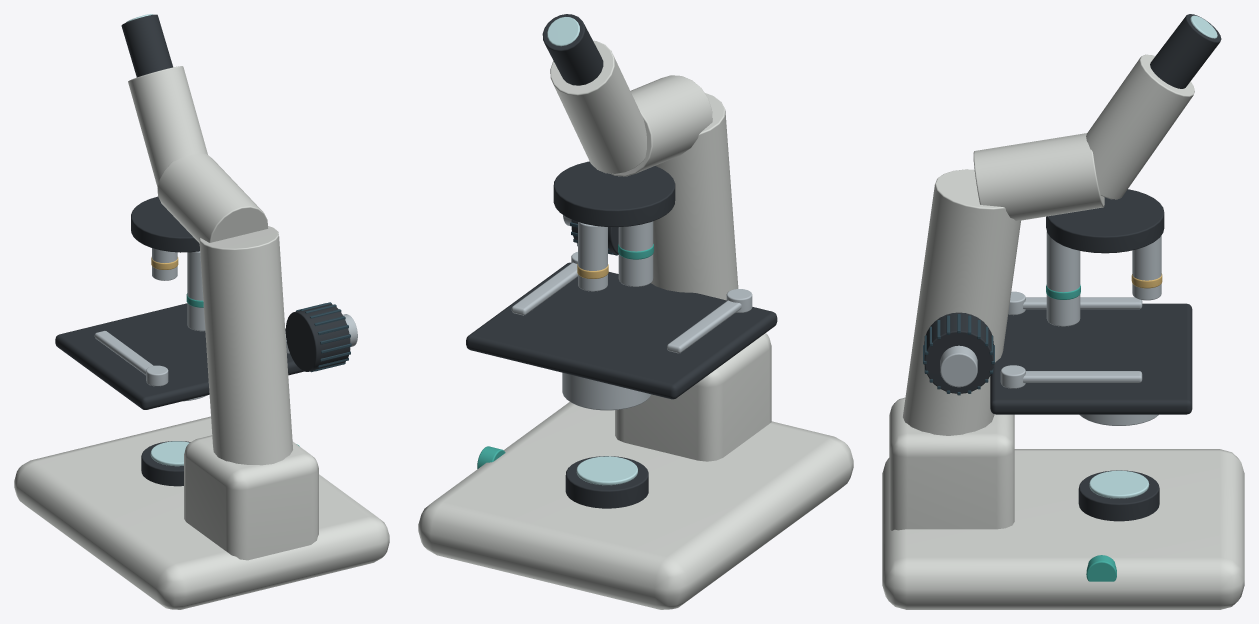
The model's file is BIO_Microscope.fbx.
3 views of the same model, side by side, from view 1: azimuth 30°, elevation 25°; view 2: azimuth 150°, elevation 25°; view 3: azimuth 270°, elevation 25° (orthographic). The views are drawn at different scales.
Visible parts, largest first — view 1: Base, Arm, ArmFoot, Stage, HeadSupport, Head, CoarseFocusKnob, Nosepiece, Eyepiece, Objective_40x, Illuminator, StageClip_L (+2 smaller); view 2: Base, Stage, Arm, ArmFoot, Head, Nosepiece, HeadSupport, Illuminator, Eyepiece, Condenser, Objective_40x, Objective_10x (+4 smaller); view 3: Base, Stage, Arm, ArmFoot, HeadSupport, Head, Nosepiece, CoarseFocusKnob, Eyepiece, Objective_40x, Illuminator, Objective_10x (+7 smaller).
Boxes of the visible parts, bbox=[...] form: Base: bbox=[14, 416, 389, 609]; Arm: bbox=[199, 226, 292, 465]; ArmFoot: bbox=[184, 435, 318, 560]; Stage: bbox=[55, 303, 303, 409]; HeadSupport: bbox=[157, 153, 267, 243]; Head: bbox=[128, 66, 207, 186]; CoarseFocusKnob: bbox=[285, 304, 350, 371]; Nosepiece: bbox=[131, 196, 199, 252]; Eyepiece: bbox=[121, 14, 172, 77]; Objective_40x: bbox=[187, 251, 205, 331]; Illuminator: bbox=[141, 441, 190, 486]; StageClip_L: bbox=[94, 330, 153, 375]; Base: bbox=[418, 402, 853, 609]; Stage: bbox=[466, 262, 777, 399]; Arm: bbox=[651, 93, 738, 300]; ArmFoot: bbox=[615, 333, 771, 461]; Head: bbox=[550, 40, 646, 173]; Nosepiece: bbox=[553, 161, 675, 227]; HeadSupport: bbox=[610, 75, 712, 176]; Illuminator: bbox=[565, 456, 648, 508]; Eyepiece: bbox=[542, 14, 603, 85]; Condenser: bbox=[562, 372, 651, 410]; Objective_40x: bbox=[618, 221, 653, 286]; Objective_10x: bbox=[578, 222, 607, 291]; Base: bbox=[882, 449, 1244, 609]; Stage: bbox=[990, 303, 1192, 414]; Arm: bbox=[903, 169, 1020, 435]; ArmFoot: bbox=[889, 397, 1014, 530]; HeadSupport: bbox=[973, 133, 1104, 220]; Head: bbox=[1086, 54, 1194, 199]; Nosepiece: bbox=[1046, 189, 1164, 253]; CoarseFocusKnob: bbox=[924, 312, 993, 393]; Eyepiece: bbox=[1150, 14, 1221, 88]; Objective_40x: bbox=[1046, 231, 1080, 326]; Illuminator: bbox=[1078, 470, 1159, 521]; Objective_10x: bbox=[1132, 235, 1161, 300].
Size of the model in its own units: 43 by 85.18 by 52.
